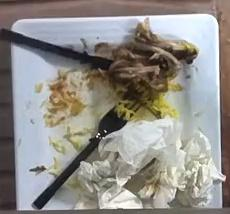rice: (115, 88, 178, 121)
